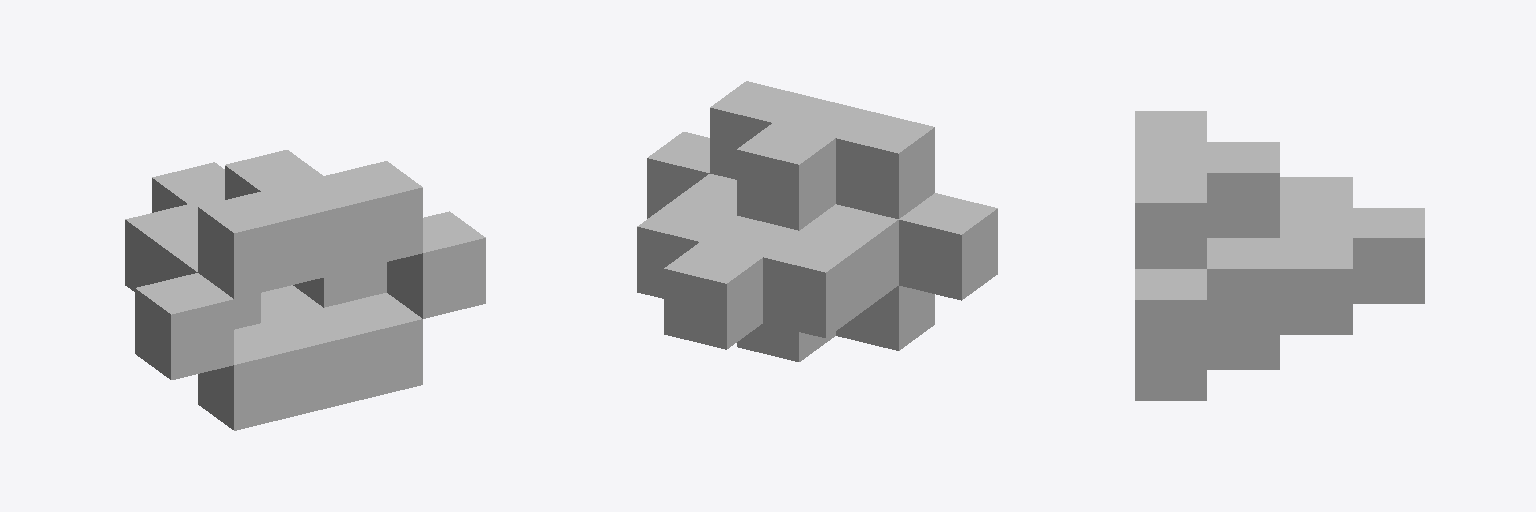
The model's file is bell.obj.
3 views of the same model, side by side, from view 1: azimuth 30°, elevation 25°; view 2: azimuth 150°, elevation 25°; view 3: azimuth 270°, elevation 25° (orthographic).
Visible parts, largest first — view 1: object 1; view 2: object 1; view 3: object 1.
Boxes of the visible parts, <box> form: object 1: <box>125,150,485,430</box>; object 1: <box>637,81,997,361</box>; object 1: <box>1135,111,1424,400</box>.
Size of the model in its own units: 0.5 by 0.3 by 0.4.